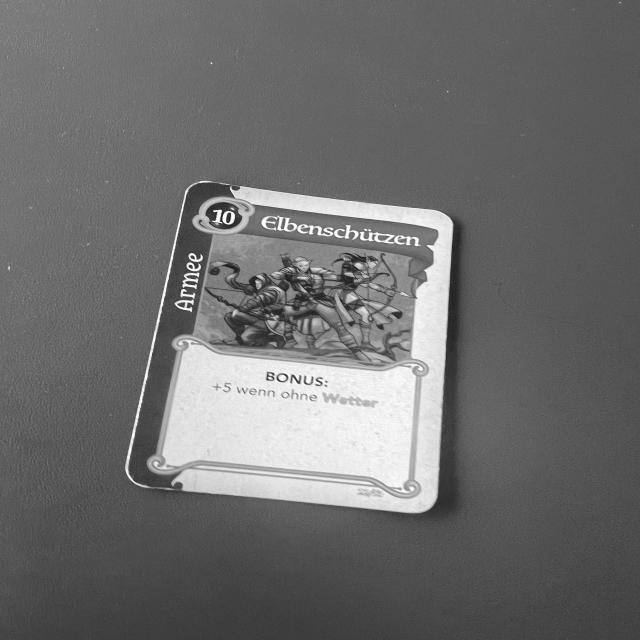Elven Archers: (117, 178, 460, 519)
